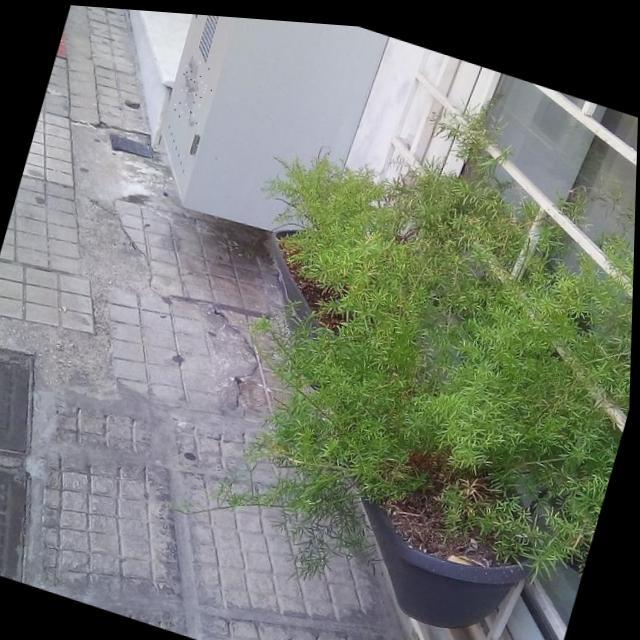-: (170, 53, 218, 128)
